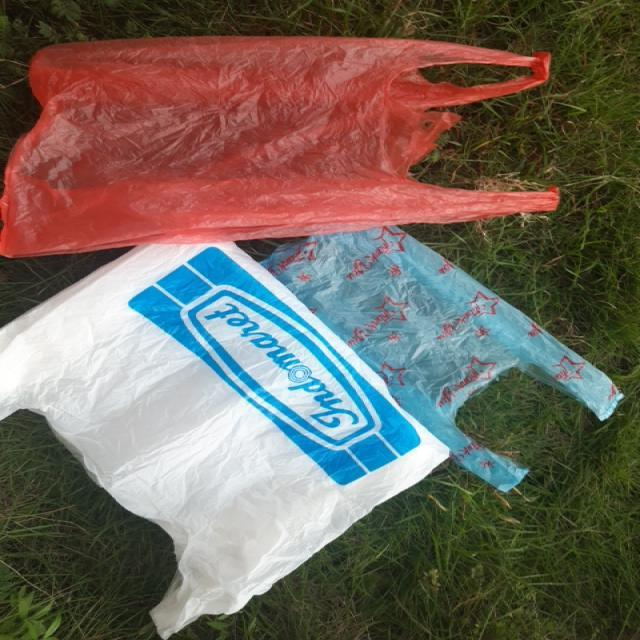Single-layer Plastic: (3, 238, 461, 635), (250, 184, 638, 508), (0, 36, 559, 258)
